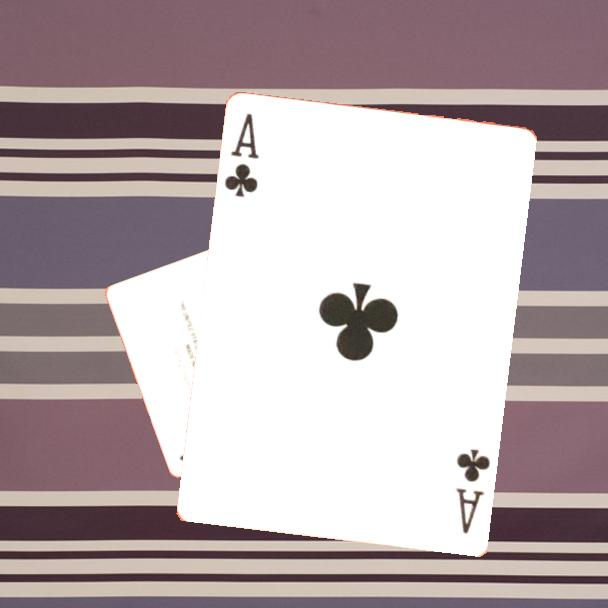c01: (453, 445, 494, 537), (221, 110, 262, 201)
